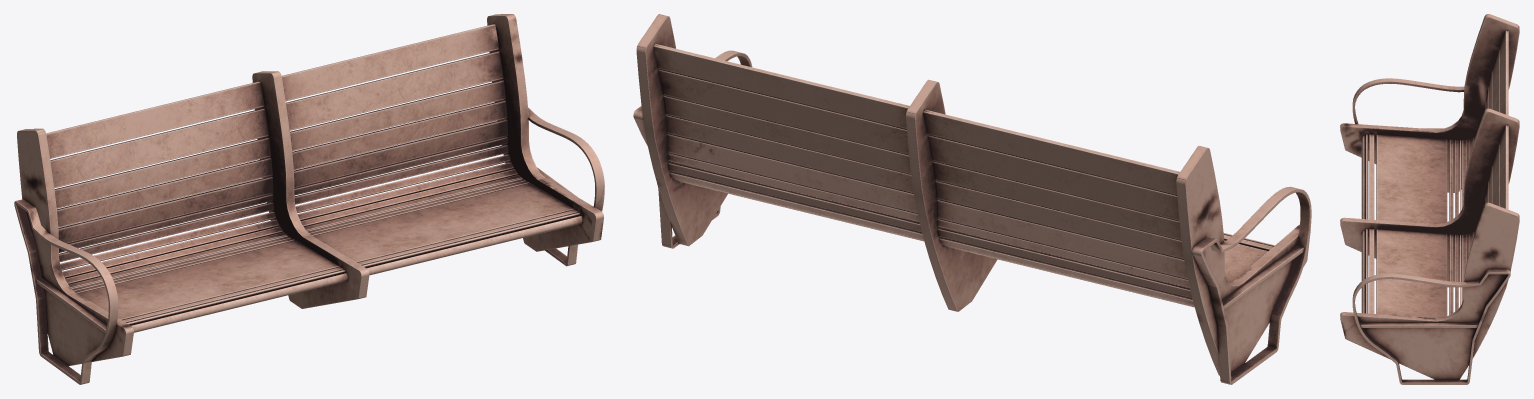
Rendered from Bench.glb.
3 renders of one model, left to right at view 1: azimuth 30°, elevation 25°; view 2: azimuth 150°, elevation 25°; view 3: azimuth 270°, elevation 25°, orthographic. The views are drawn at different scales.
Visible parts, largest first — view 1: wood, steel1; view 2: wood, steel1; view 3: steel1, wood.
Boxes of the visible parts, bbox=[...] form: wood: bbox=[46, 24, 582, 332]; steel1: bbox=[14, 14, 604, 384]; wood: bbox=[653, 44, 1274, 307]; steel1: bbox=[633, 14, 1311, 384]; steel1: bbox=[1340, 14, 1519, 384]; wood: bbox=[1361, 30, 1508, 317].
Bounding box in the file's own units: 198 × 81.87 × 75.79.
2 materials, 2 textured.
